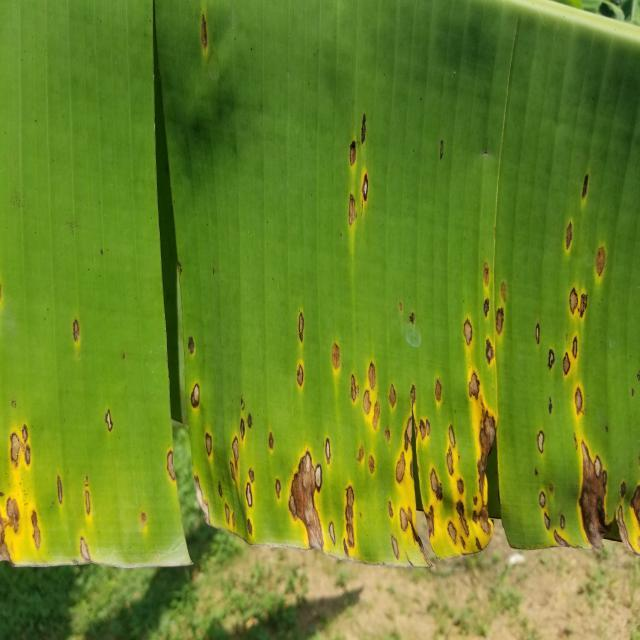Early_rust: (11, 115, 640, 547), (177, 0, 252, 88)
